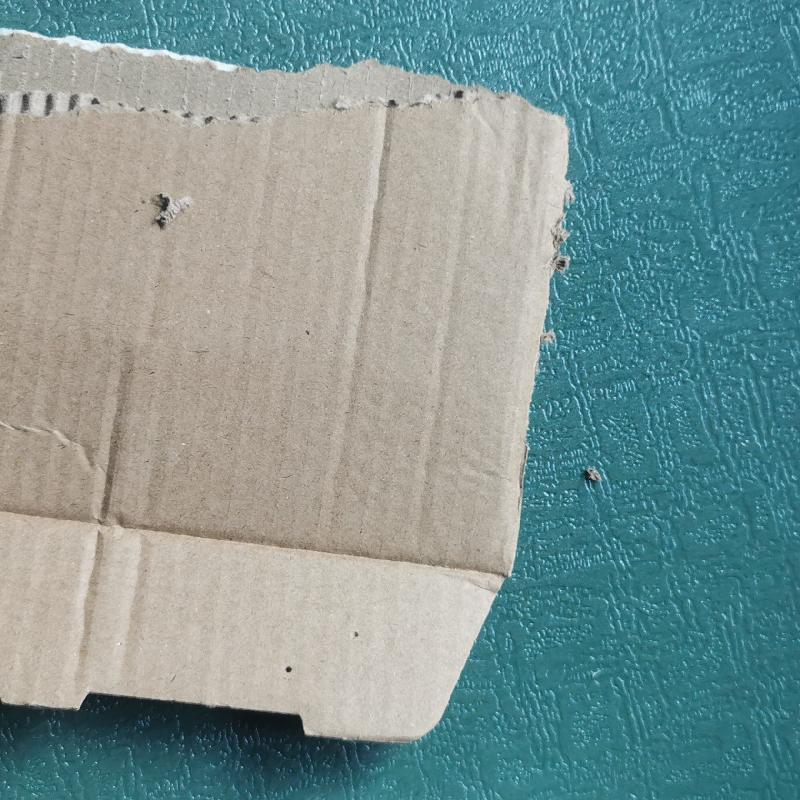boxes: (0, 0, 580, 759)
